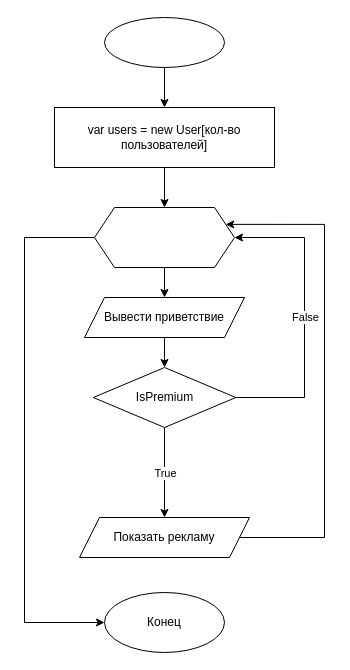
Some shapes in this 350 by 670 pixel diagram are drawn without their labels. Each missing label, with the box of its shape:
foreach user in users: (94, 206, 234, 268)
Начало: (104, 16, 224, 68)
